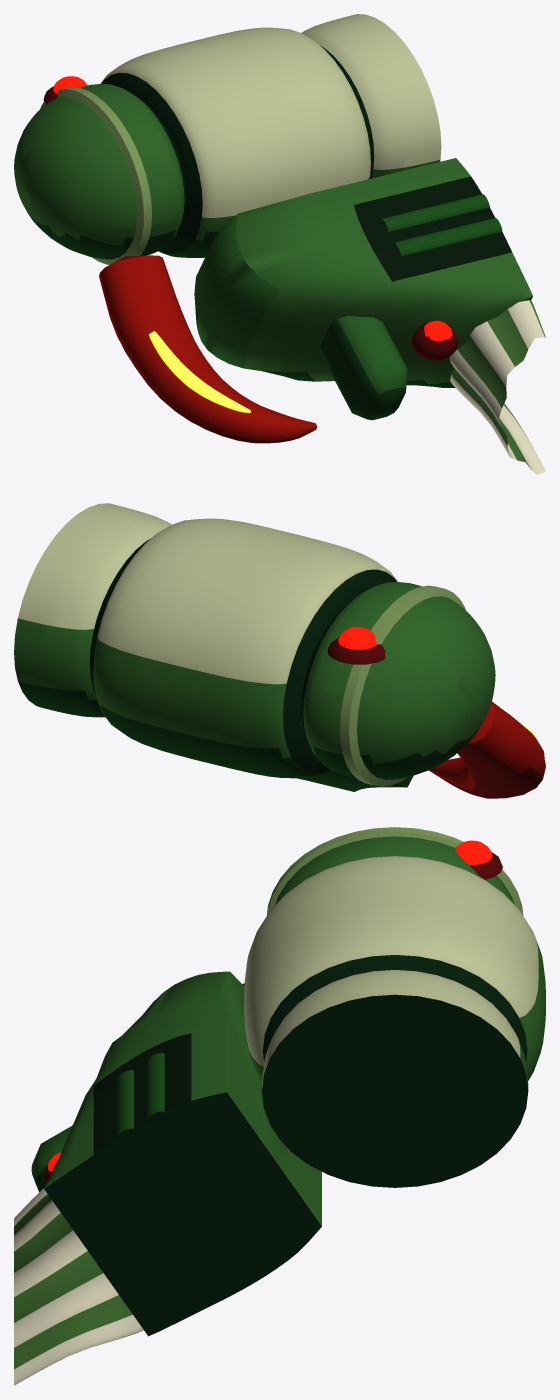
Rendered from green_tower_tl.glb.
3 views of the same model, one above another, from view 1: azimuth 30°, elevation 25°; view 2: azimuth 150°, elevation 25°; view 3: azimuth 270°, elevation 25° (orthographic). The views are drawn at different scales.
Parts seen in each view (by area): view 1: pod.001, neck.001, claw-1.001, stem.001, prong-1.001, cap_rib-1.001, slat0.001, slat1.001, slit-1.001, neck_lamp_seat-1.001; view 2: pod.001, claw-1.001, cap_rib-1.001, lamp_seat-1.001, neck.001, lamp-1.001; view 3: pod.001, neck.001, stem.001, cap_rib-1.001, slat1.001, slat0.001, prong-1.001, lamp-1.001.
Part boxes in pixels (x1,y1,x2,y2): pod.001: [14, 14, 441, 259]; neck.001: [194, 158, 532, 387]; claw-1.001: [99, 255, 316, 443]; stem.001: [449, 300, 545, 474]; prong-1.001: [320, 316, 407, 420]; cap_rib-1.001: [40, 87, 151, 264]; slat0.001: [394, 218, 502, 256]; slat1.001: [381, 194, 489, 231]; slit-1.001: [148, 331, 250, 412]; neck_lamp_seat-1.001: [411, 322, 457, 361]; pod.001: [14, 503, 495, 779]; claw-1.001: [429, 701, 545, 798]; cap_rib-1.001: [340, 585, 465, 786]; lamp_seat-1.001: [327, 637, 385, 664]; neck.001: [297, 770, 413, 791]; lamp-1.001: [338, 627, 376, 649]; pod.001: [244, 836, 545, 1187]; neck.001: [44, 971, 321, 1336]; stem.001: [14, 1188, 143, 1385]; cap_rib-1.001: [267, 827, 523, 915]; slat1.001: [147, 1052, 165, 1124]; slat0.001: [117, 1070, 135, 1141]; prong-1.001: [31, 1125, 72, 1192]; lamp-1.001: [455, 840, 492, 865].
Size of the model in its own units: 22.1 by 20.3 by 24.15.
